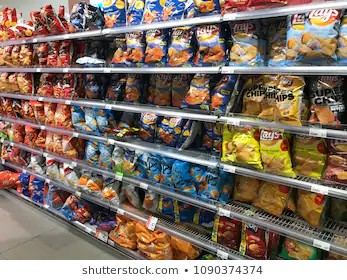lays-med: (258, 126, 294, 180), (306, 9, 340, 60), (282, 11, 311, 59), (293, 133, 321, 179), (167, 25, 197, 67), (227, 23, 257, 65), (193, 25, 223, 67), (141, 28, 171, 70), (153, 74, 174, 108), (122, 72, 143, 106)
